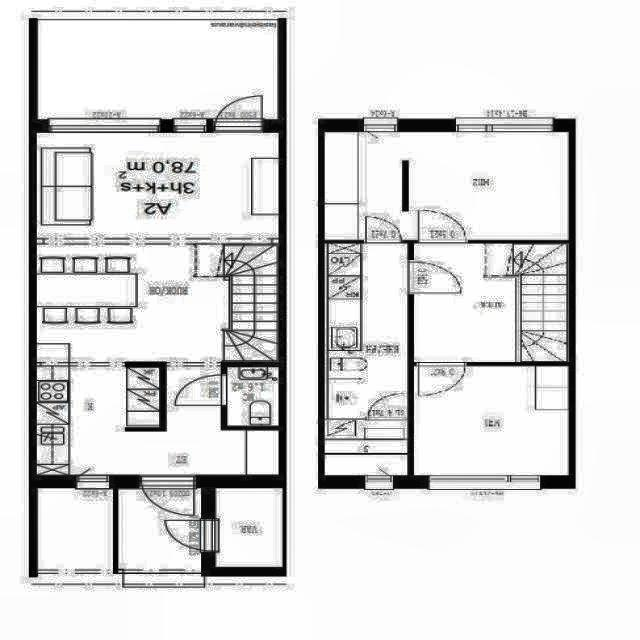room: (324, 243, 407, 475), (414, 244, 566, 363), (414, 366, 568, 475), (216, 488, 282, 567), (227, 367, 279, 426)
